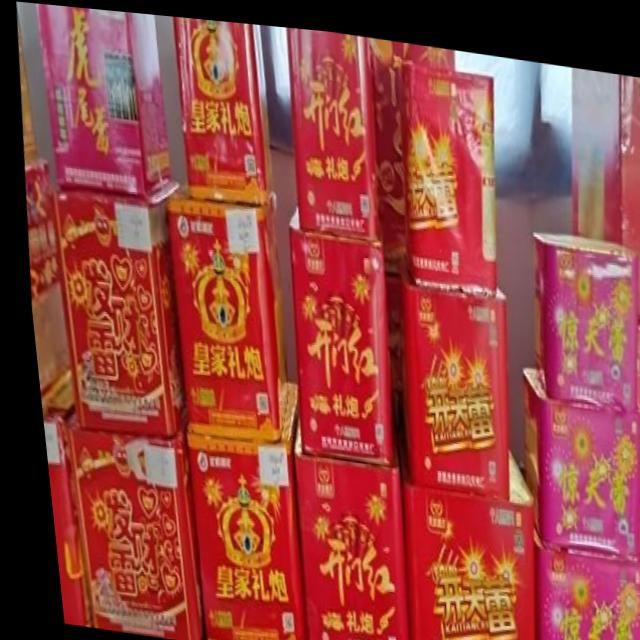box: (47, 175, 178, 437), (162, 178, 281, 438), (58, 408, 191, 640), (178, 376, 294, 640), (388, 421, 525, 640), (392, 252, 501, 493), (285, 200, 385, 461), (284, 415, 397, 640), (36, 3, 167, 197), (516, 357, 632, 552), (397, 54, 493, 289), (369, 30, 455, 268), (286, 22, 377, 236), (527, 222, 635, 400), (568, 56, 640, 314), (172, 13, 270, 198), (524, 515, 636, 640), (32, 365, 79, 627), (21, 157, 62, 395), (629, 315, 640, 629), (16, 4, 36, 165)
